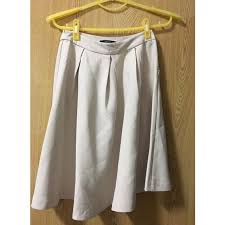C_skirt: (30, 23, 178, 224)
